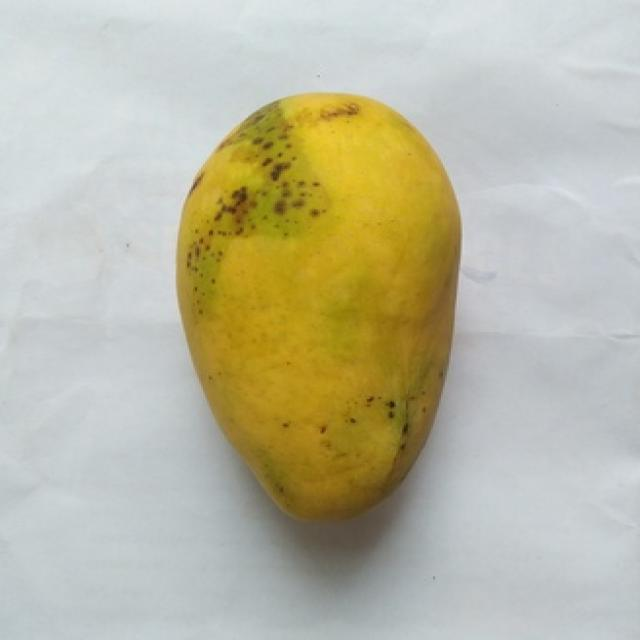Mango: (178, 94, 459, 517)
